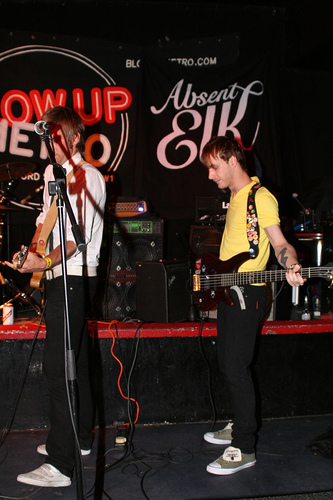without_mask: (37, 117, 83, 170), (201, 152, 245, 194)
